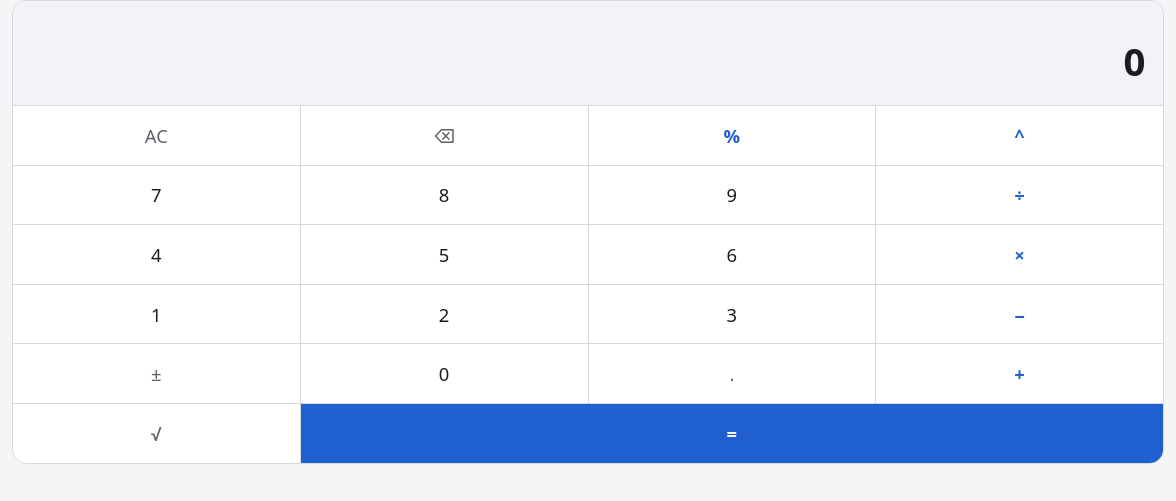
Test: Keypad › clears the error once the next digit is pressed
Click the button "1": (156, 314) [13, 285, 300, 343]
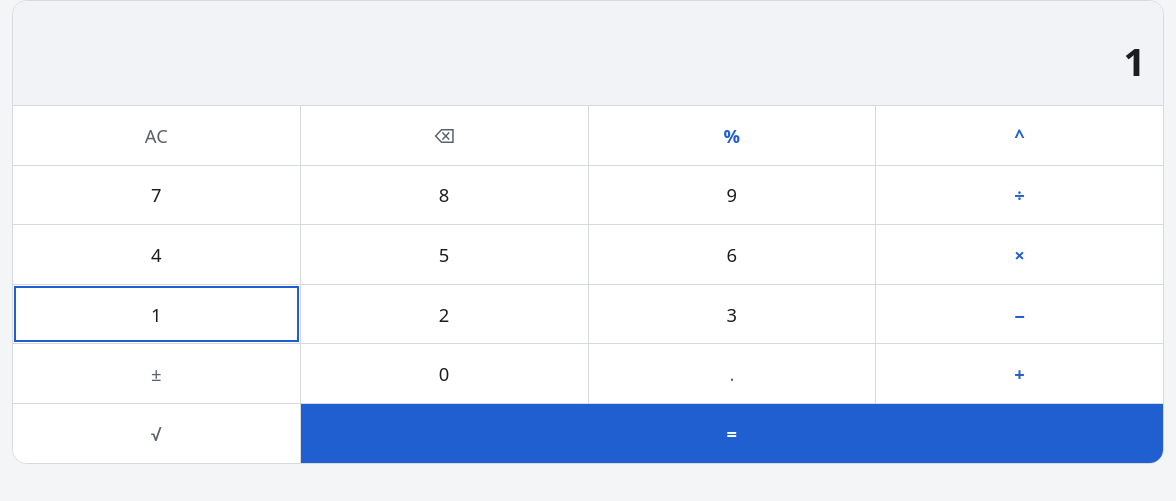
Click the button named "Divide": (1020, 195) [876, 166, 1163, 224]
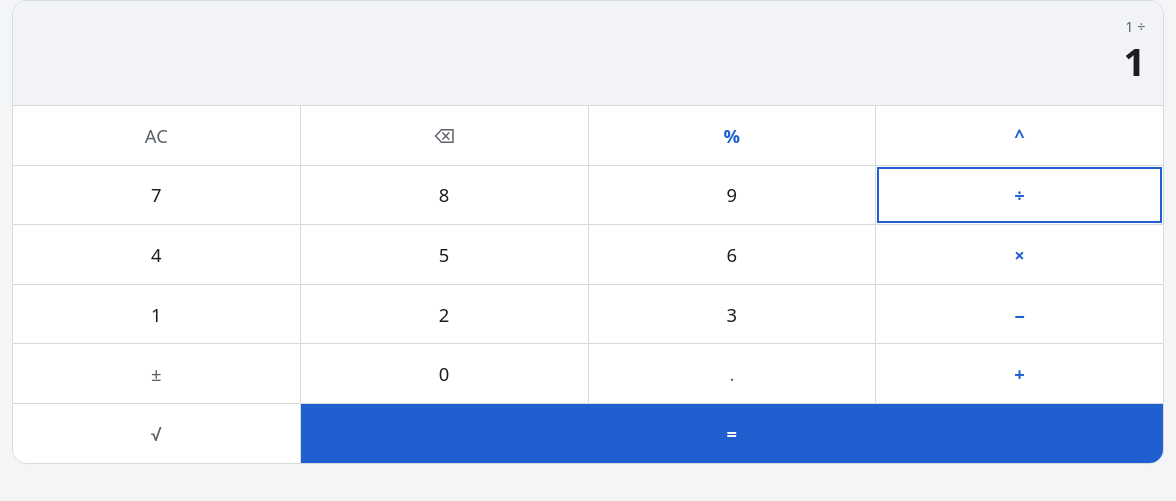
Click the button "0": (444, 374) [301, 344, 588, 403]
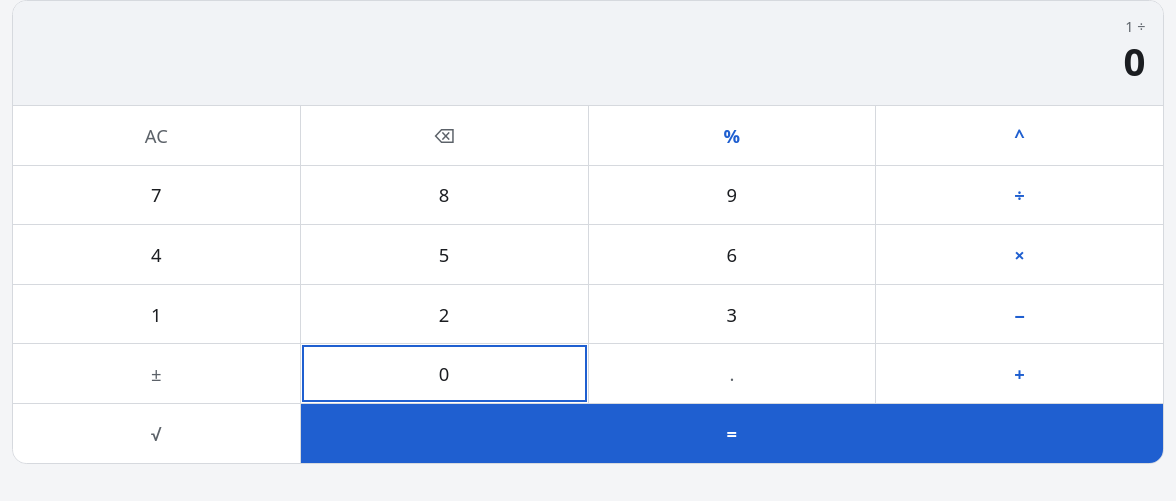
Click the button named "Equals": (732, 433) [301, 404, 1163, 463]
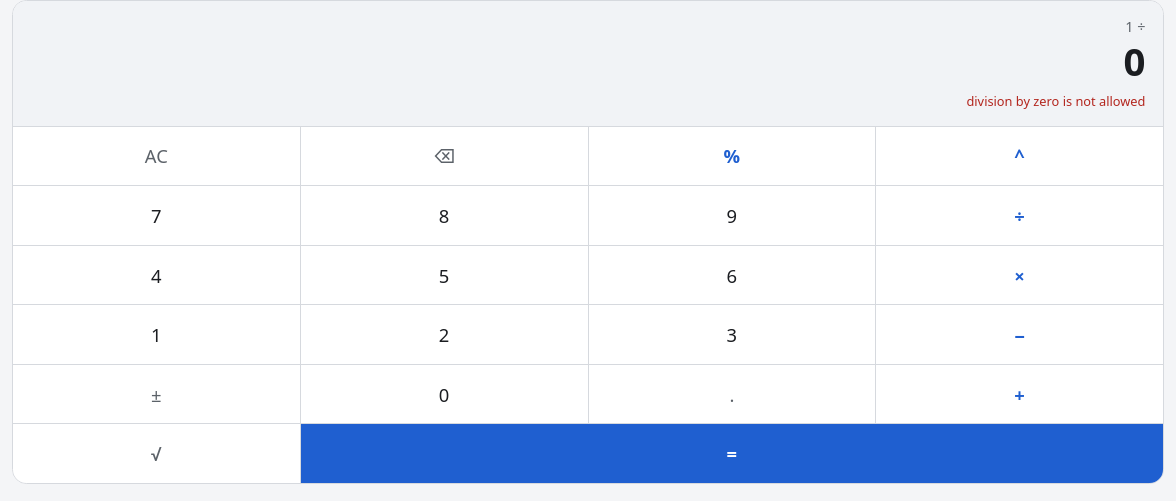
Now the message "division by zero is not allowed" is shown, box [966, 92, 1146, 110]
Click the button "5": (444, 275) [301, 246, 588, 304]
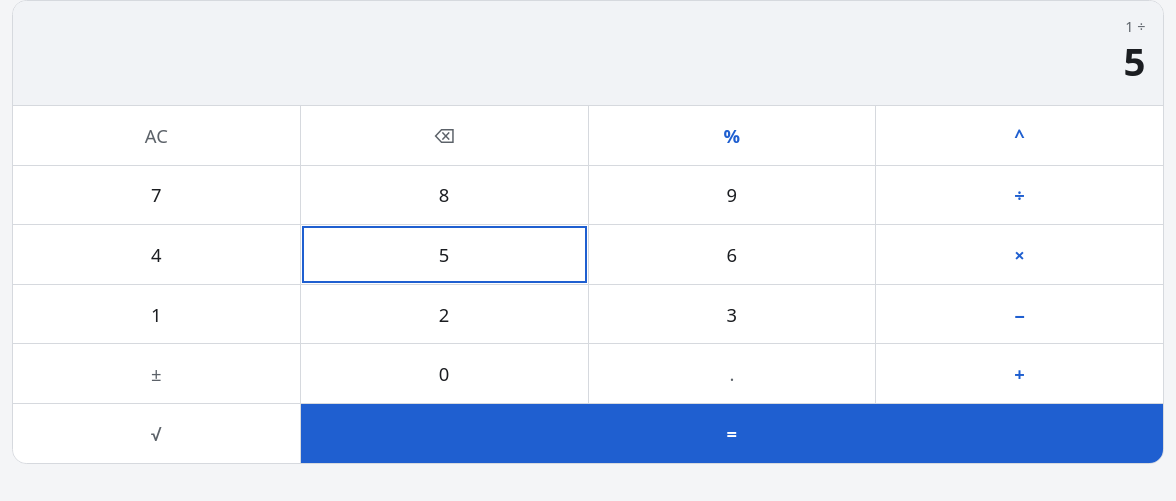
Now the message "division by zero is not allowed" is gone
